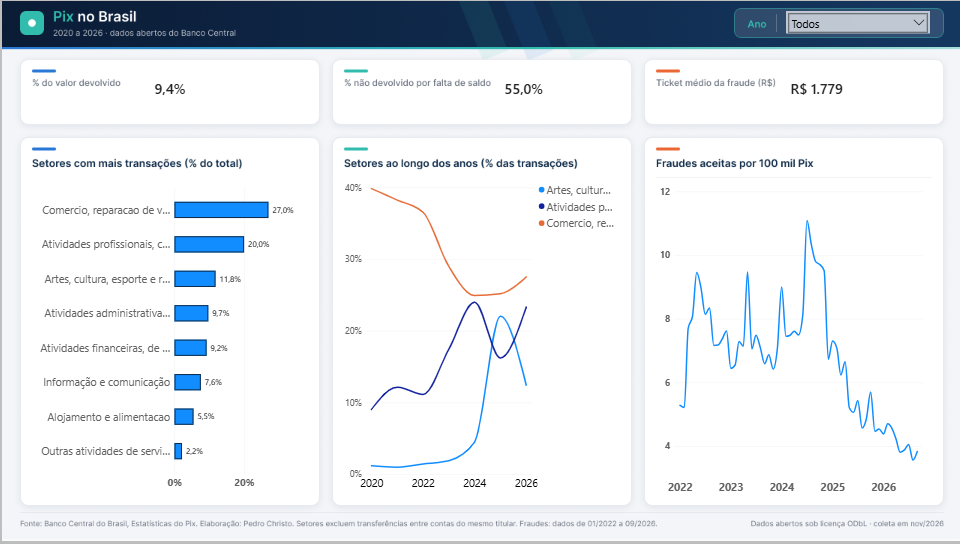

The page's visual inventory and layout, read from the dashboard file:
{"tool":"powerbi","page":{"name":"Setores e Fraudes","canvas":[1920,1080],"ordinal":4},"visuals":[{"type":"card","fields":{"Values":["_Medidas.% do valor devolvido"]},"box":[267.5,117.5,136,118],"z":0},{"type":"card","fields":{"Values":["_Medidas.% não devolvido por falta de saldo"]},"box":[962.5,115,163.3,123.3],"z":1000},{"type":"card","fields":{"Values":["_Medidas.Ticket médio da fraude (R$)"]},"box":[1545,120,166.7,115],"z":2000},{"type":"barChart","fields":{"Category":["dSetor.SetorNome"],"Y":["_Medidas.% das transações por setor"]},"box":[47.5,352.5,572.5,645],"z":3000},{"type":"lineChart","fields":{"Category":["dCalendario.Ano"],"Series":["dSetor.SetorNome"],"Y":["_Medidas.% das transações por setor"]},"box":[670,345,583.3,653.3],"z":4000},{"type":"lineChart","fields":{"Category":["dCalendario.Data"],"Y":["_Medidas.Aceitas por 100 mil Pix"]},"box":[1300,353.3,571.5,653.2],"z":5000},{"type":"slicer","fields":{"Values":["dCalendario.Ano"]},"box":[1567.5,20,287.5,45],"z":6000}]}

Visuals, with their boxes in screenshot pixels (x1, y1, x2, y2), scaled from the page's 1920x1080 canvas onto the 960x544 screenshot:
card - _Medidas.% do valor devolvido: Rect(134, 59, 202, 119)
card - _Medidas.% não devolvido por falta de saldo: Rect(481, 58, 563, 120)
card - _Medidas.Ticket médio da fraude (R$): Rect(772, 60, 856, 118)
barChart - dSetor.SetorNome x _Medidas.% das transações por setor: Rect(24, 178, 310, 502)
lineChart - dCalendario.Ano x dSetor.SetorNome: Rect(335, 174, 627, 503)
lineChart - dCalendario.Data x _Medidas.Aceitas por 100 mil Pix: Rect(650, 178, 936, 507)
slicer - dCalendario.Ano: Rect(784, 10, 928, 33)
